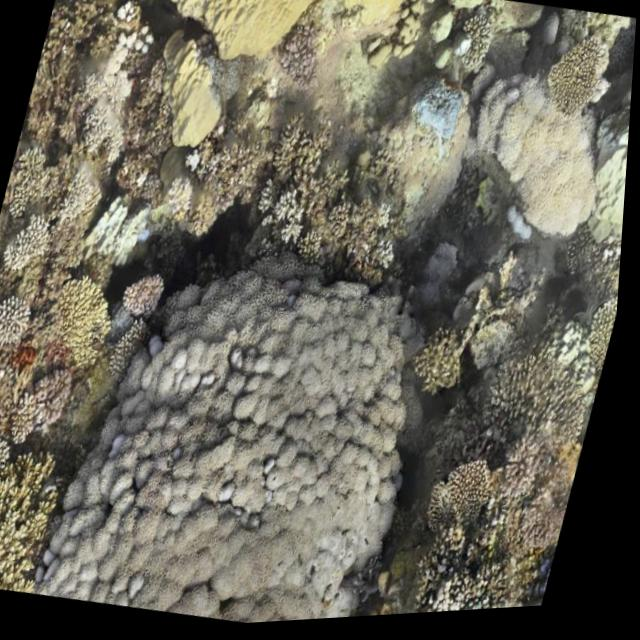Bleached Coral: (430, 58, 635, 252), (76, 5, 172, 159), (73, 160, 174, 289), (403, 69, 477, 157), (175, 137, 218, 184)
Healthy Coral: (32, 228, 466, 637)
